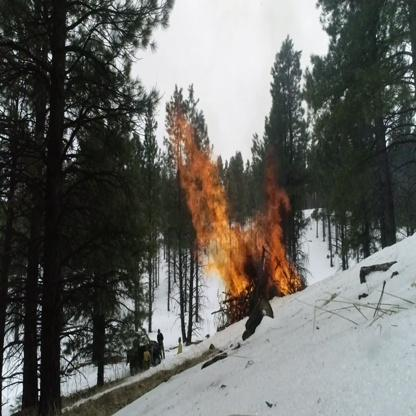Fire: (163, 93, 307, 309)
